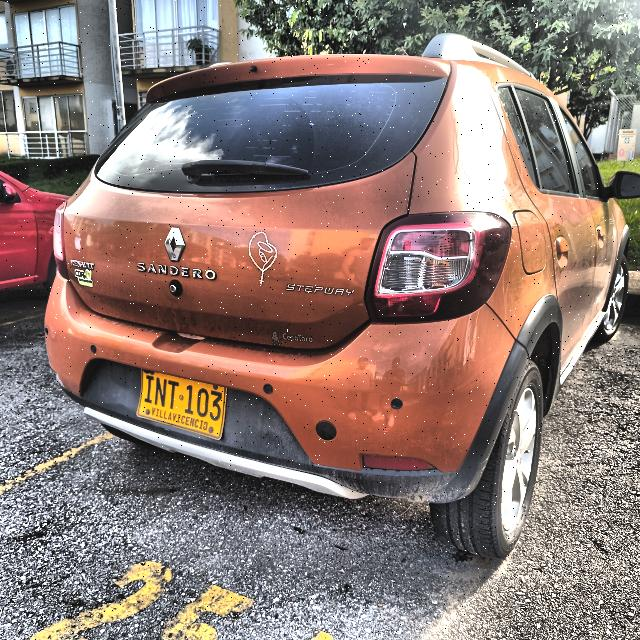0: (195, 385, 210, 420)
1: (183, 382, 195, 416)
3: (209, 387, 224, 423)
I: (143, 374, 155, 404)
N: (153, 376, 168, 409)
T: (166, 379, 180, 411)
